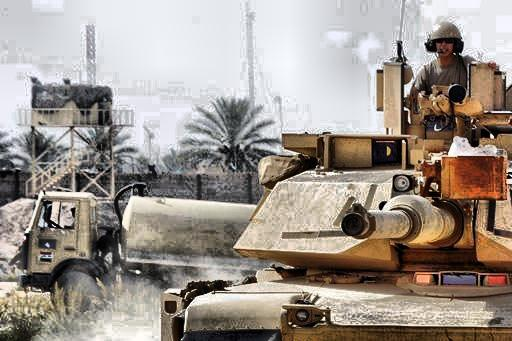tanks: (163, 63, 512, 341)
